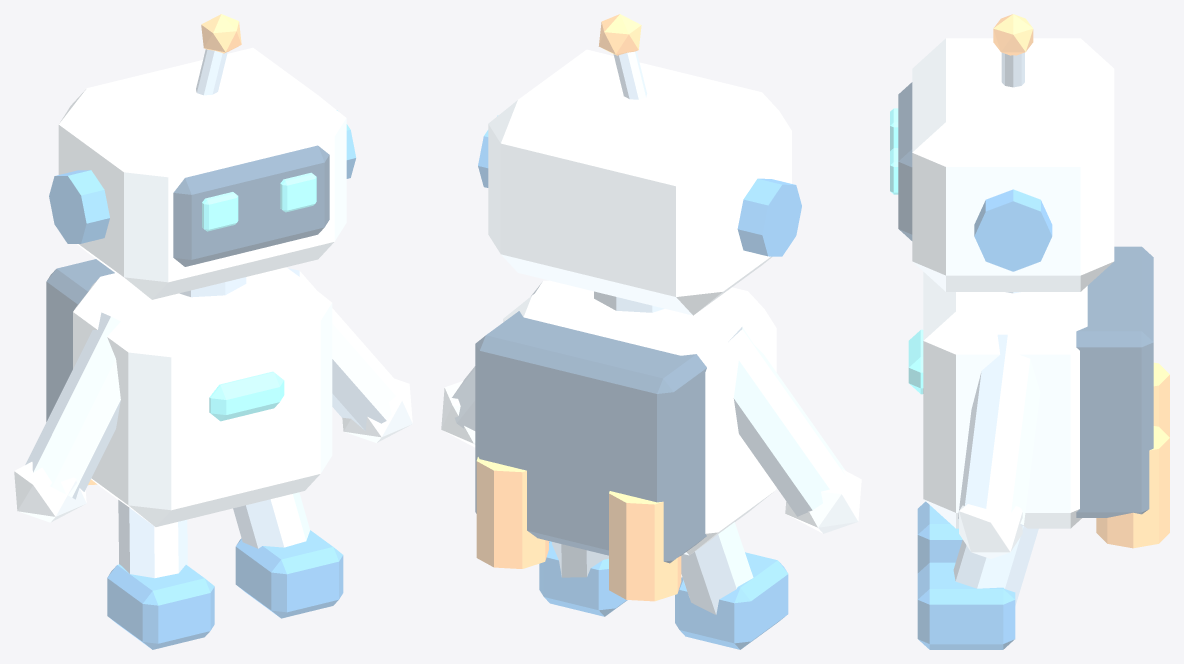
Rendered from orbit-robot.glb.
The picture shows the model from 3 angles, left to right: view 1: azimuth 30°, elevation 25°; view 2: azimuth 150°, elevation 25°; view 3: azimuth 270°, elevation 25°; orthographic projection. The views are drawn at different scales.
Visible parts, largest first — view 1: orbit-robot; view 2: orbit-robot; view 3: orbit-robot.
Boxes of the visible parts, x1,y1,x2,y2 form: orbit-robot: [14, 14, 412, 649]; orbit-robot: [441, 14, 861, 649]; orbit-robot: [890, 14, 1169, 649].
Bounding box in the file's own units: 1.25 × 1.77 × 0.747.
